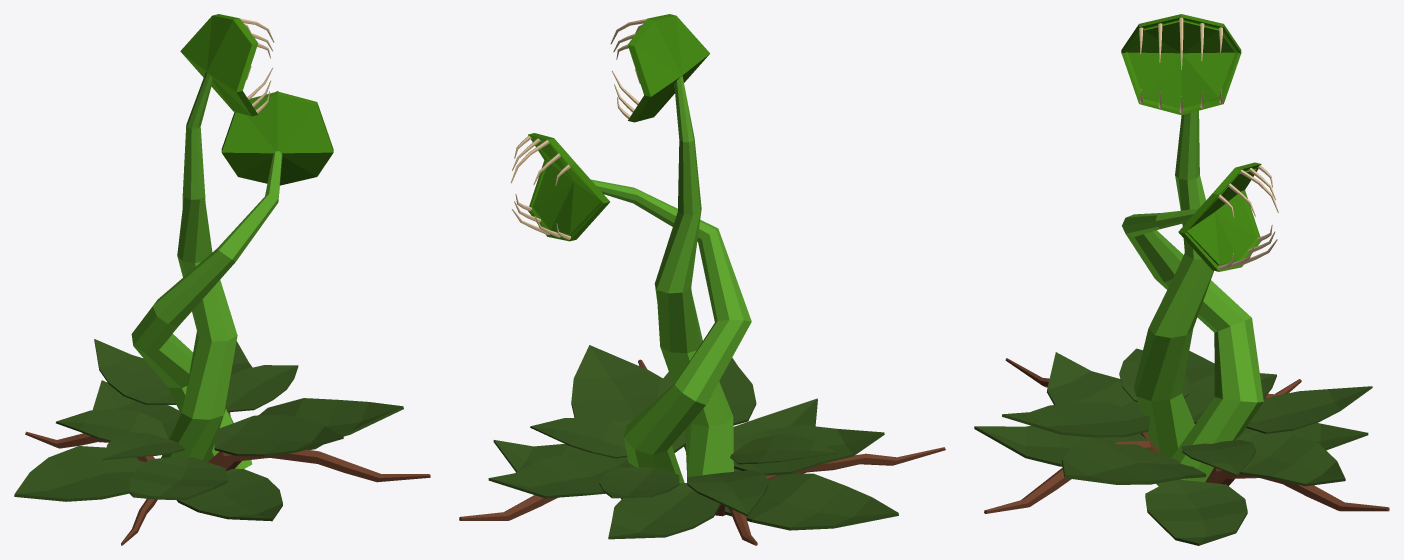
Rendered from Venus_3.fbx.
3 renders of one model, left to right at view 1: azimuth 30°, elevation 25°; view 2: azimuth 150°, elevation 25°; view 3: azimuth 270°, elevation 25°, orthographic. The views are drawn at different scales.
Parts seen in each view (by area): view 1: Venus_3; view 2: Venus_3; view 3: Venus_3.
Part boxes in pixels (box(x1,y1,x2,y2)): Venus_3: box(14, 14, 430, 545); Venus_3: box(459, 14, 945, 545); Venus_3: box(974, 14, 1389, 545).
Size of the model in its own units: 190 by 220 by 173.
